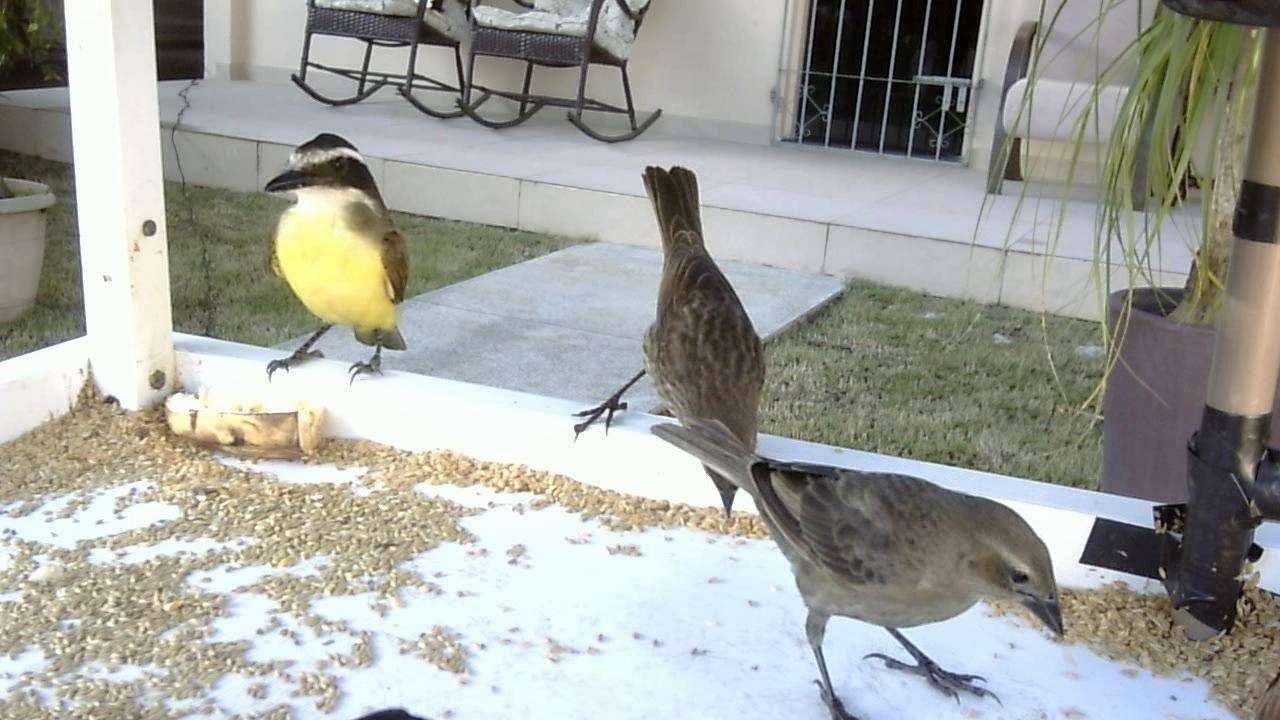bem_te_vi: (253, 129, 420, 397)
chupim: (633, 423, 1070, 720), (561, 170, 792, 535)
